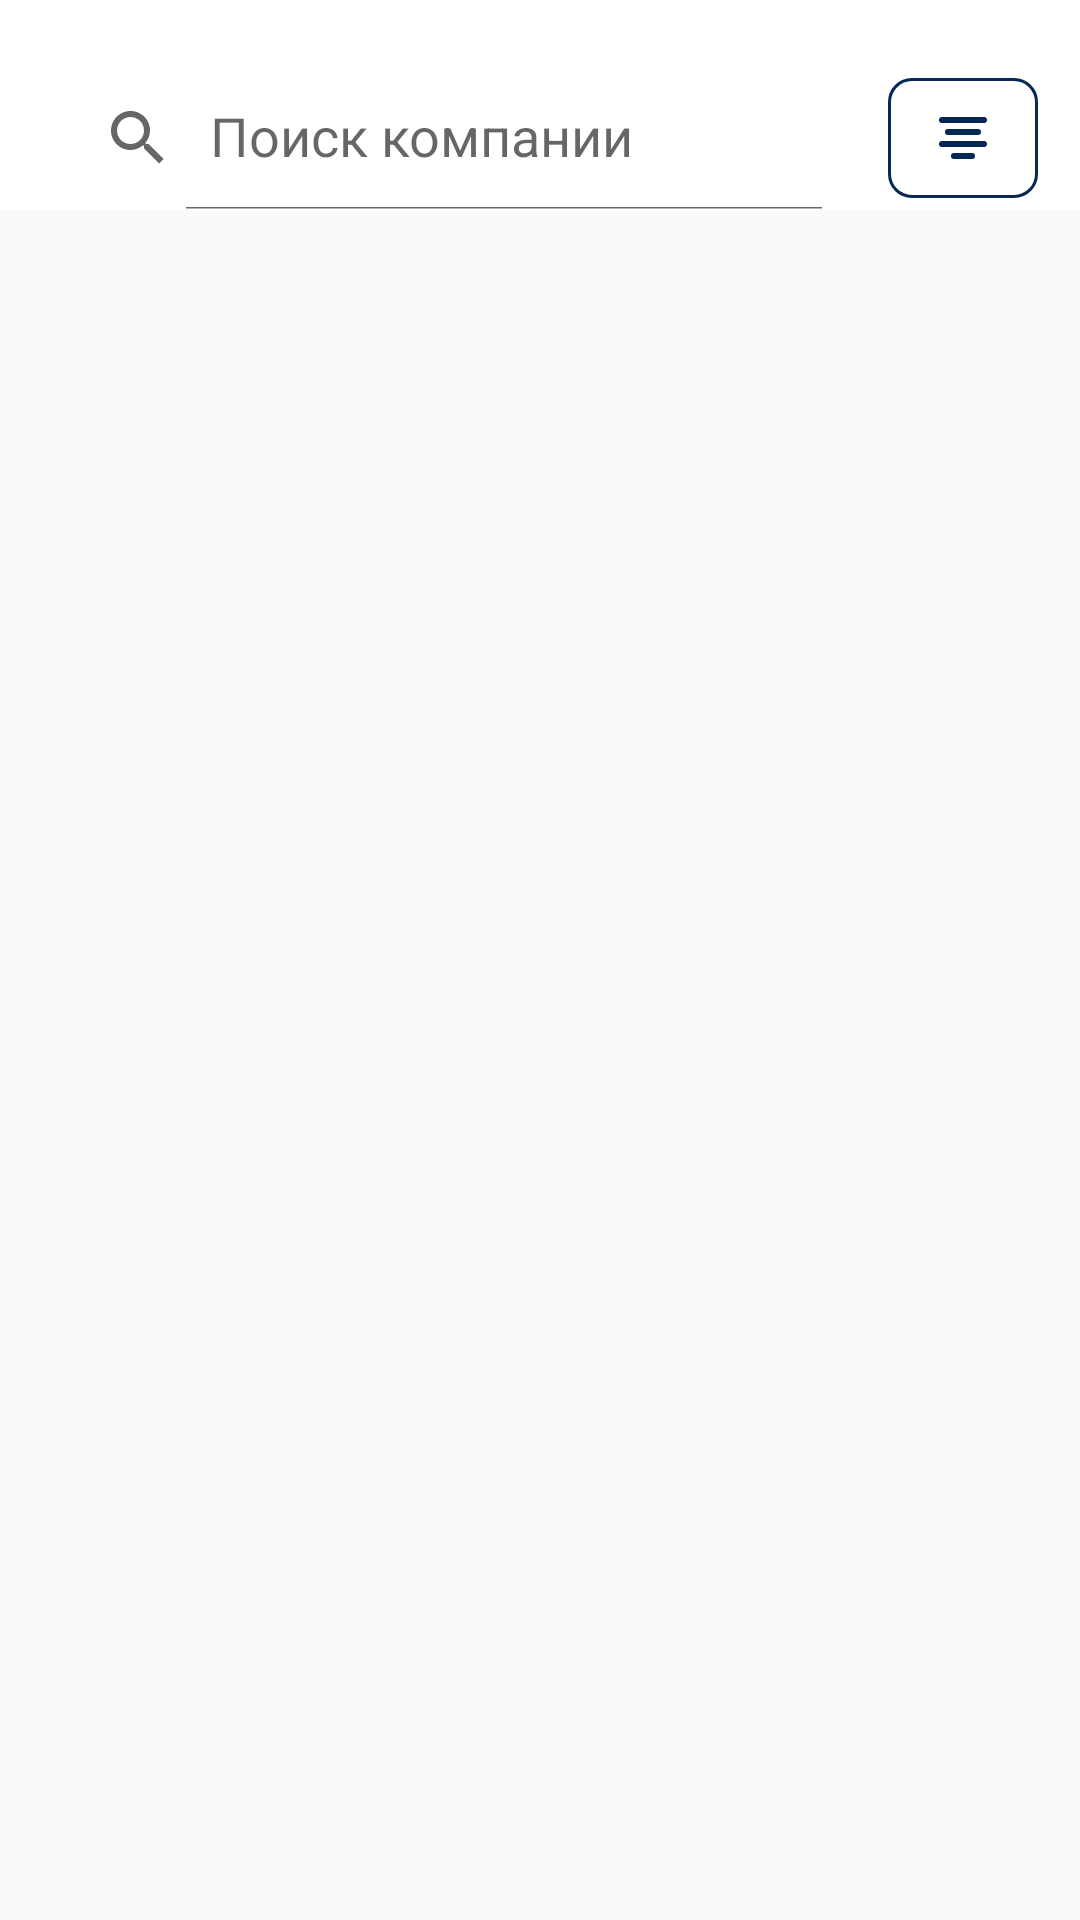

Screen size 1080w x 1920h. Icon name, then its box in pixels as (x1, y1, x2, y2):
filter: (888, 78, 1038, 198)
